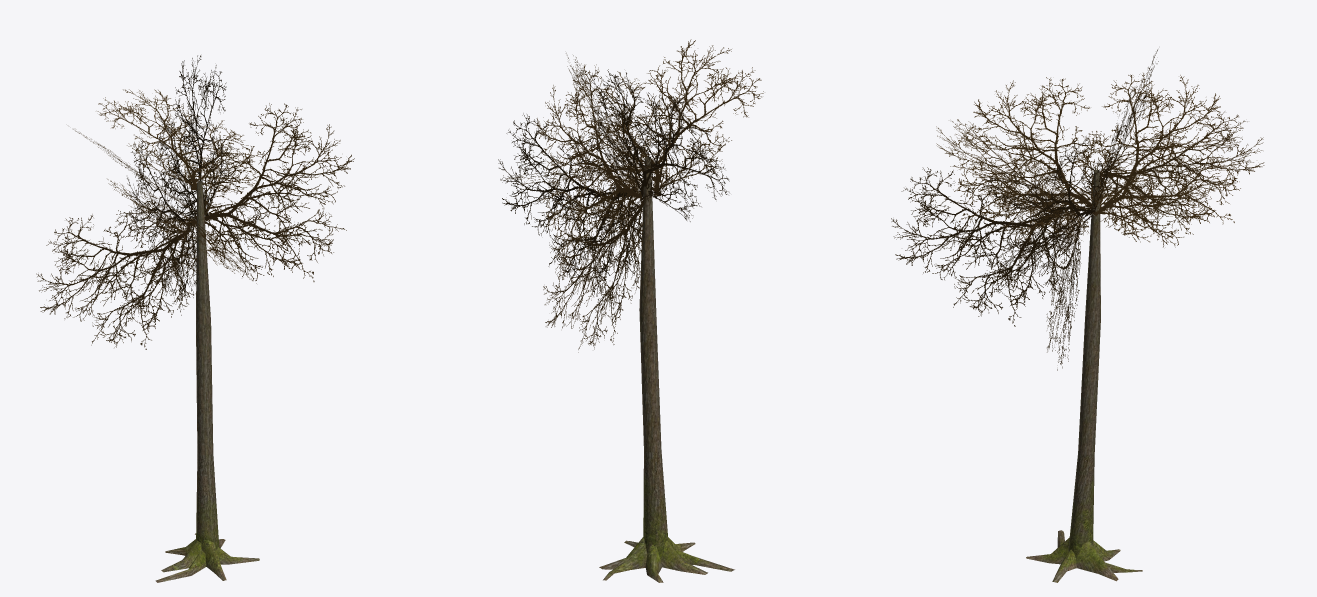
The model's file is bigTree00.fbx.
3 views of the same model, side by side, from view 1: azimuth 30°, elevation 25°; view 2: azimuth 150°, elevation 25°; view 3: azimuth 270°, elevation 25° (orthographic). The views are drawn at different scales.
Parts seen in each view (by area): view 1: bigTree; view 2: bigTree; view 3: bigTree.
Part boxes in pixels (x1,y1,x2,y2): bigTree: (36, 55, 354, 582); bigTree: (498, 39, 763, 582); bigTree: (891, 49, 1264, 582).
Bounding box in the file's own units: 19.28 × 26.68 × 19.34.
